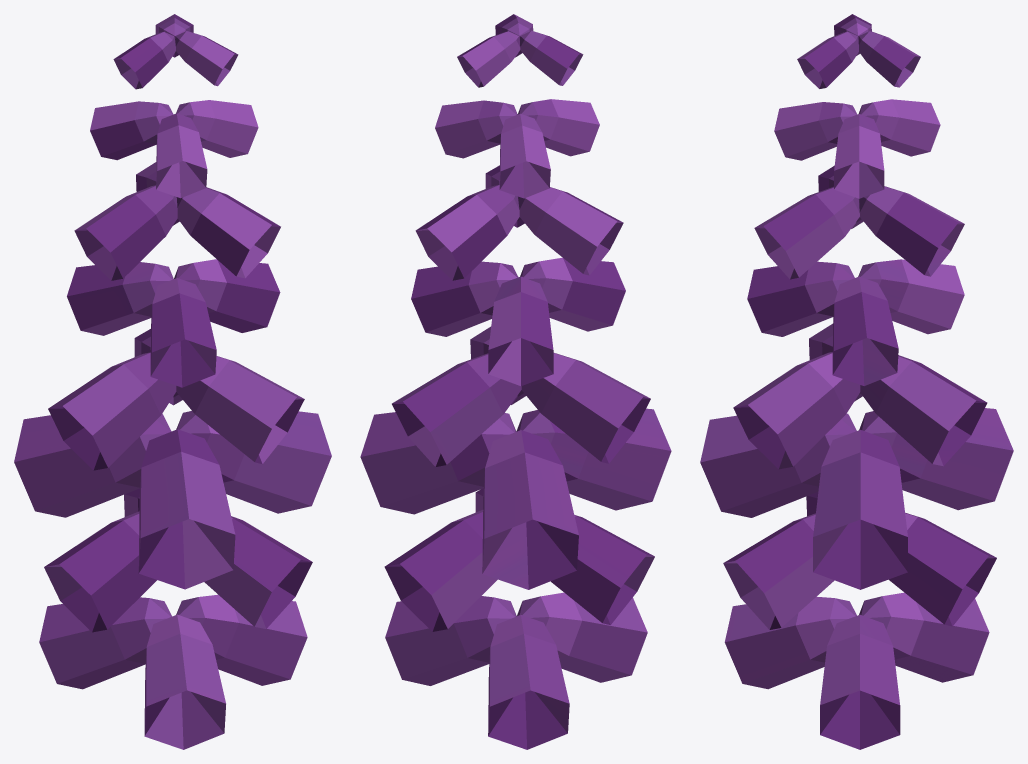
3 renders of one model, left to right at view 1: azimuth 30°, elevation 25°; view 2: azimuth 150°, elevation 25°; view 3: azimuth 270°, elevation 25°, orthographic.
Visible parts, largest first — view 1: 70c1a3ce; view 2: 70c1a3ce; view 3: 70c1a3ce.
Boxes of the visible parts, x1,y1,x2,y2 form: 70c1a3ce: (14,14,331,749); 70c1a3ce: (360,14,671,749); 70c1a3ce: (700,14,1013,749).
Bounding box in the file's own units: 0.0835 × 0.2036 × 0.0853.
1 material, 1 textured.
